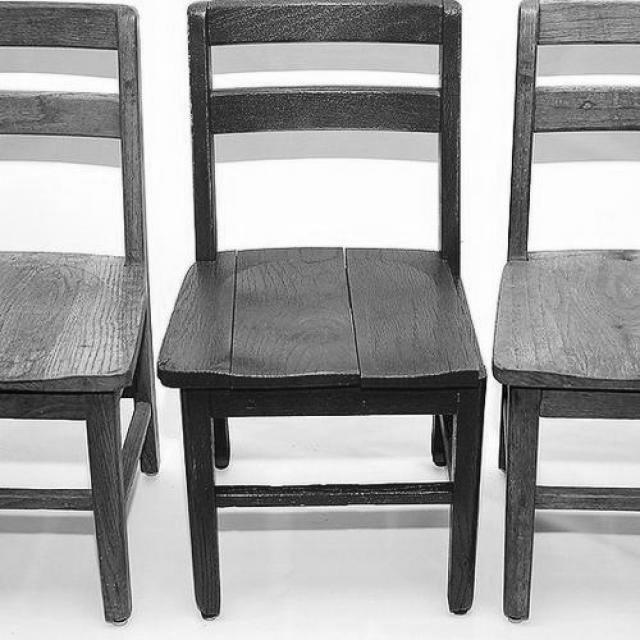chair: (156, 0, 483, 617), (0, 2, 161, 628), (493, 0, 639, 622)
